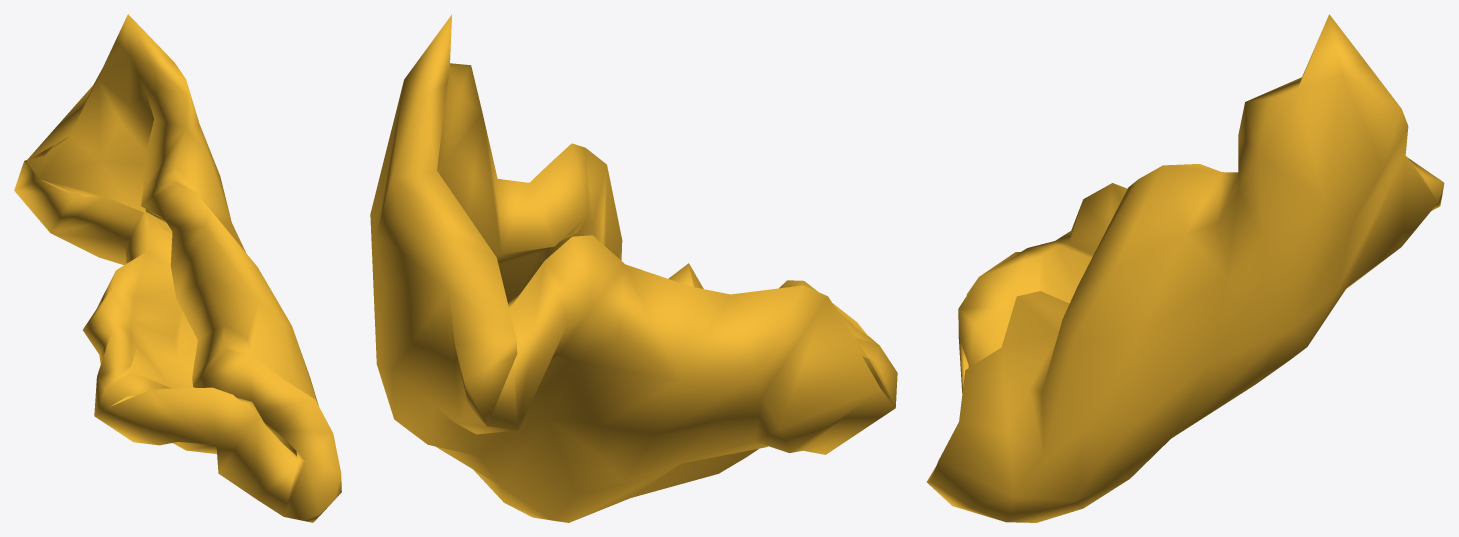
The model's file is nervoso-cingulate-sulcus-marginal-part-l.glb.
3 renders of one model, left to right at view 1: azimuth 30°, elevation 25°; view 2: azimuth 150°, elevation 25°; view 3: azimuth 270°, elevation 25°, orthographic. The views are drawn at different scales.
Parts seen in each view (by area): view 1: Cingulate sulcus (Marginal part*).l; view 2: Cingulate sulcus (Marginal part*).l; view 3: Cingulate sulcus (Marginal part*).l.
Part boxes in pixels (x1=…): Cingulate sulcus (Marginal part*).l: x1=14, y1=14, x2=341, y2=522; Cingulate sulcus (Marginal part*).l: x1=370, y1=14, x2=897, y2=522; Cingulate sulcus (Marginal part*).l: x1=926, y1=14, x2=1444, y2=522.
Bounding box in the file's own units: 0.0194 × 0.0325 × 0.032.
